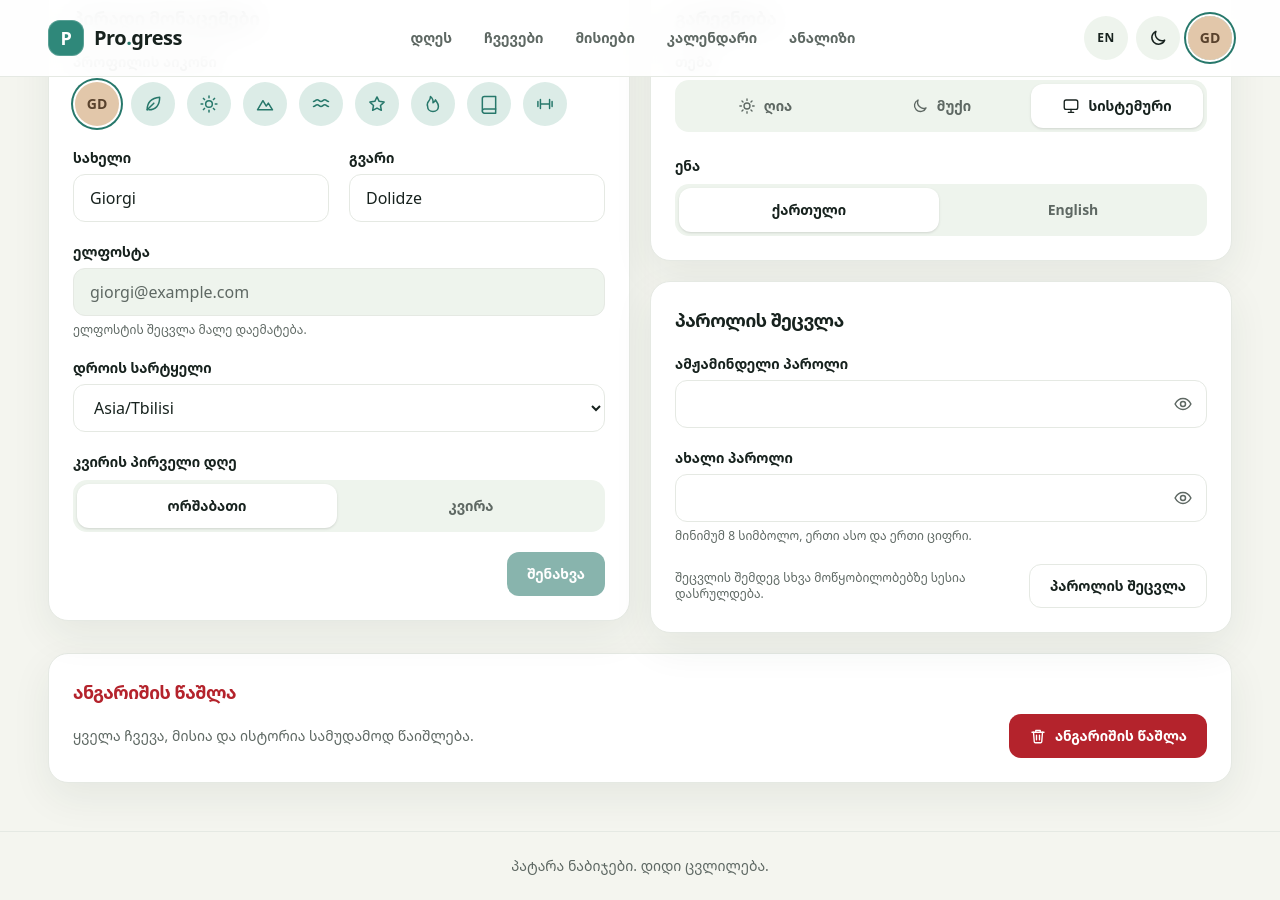
Test: profile (US-3, US-4) › deletes the account only after password confirmation
(page scrolled)
Expected: the heading "პირადი მონაცემები" is shown, 73,6 -> 260,30
Step 1. Click the button "ანგარიშის წაშლა" → (1108, 736), box 1009,714 -> 1207,758
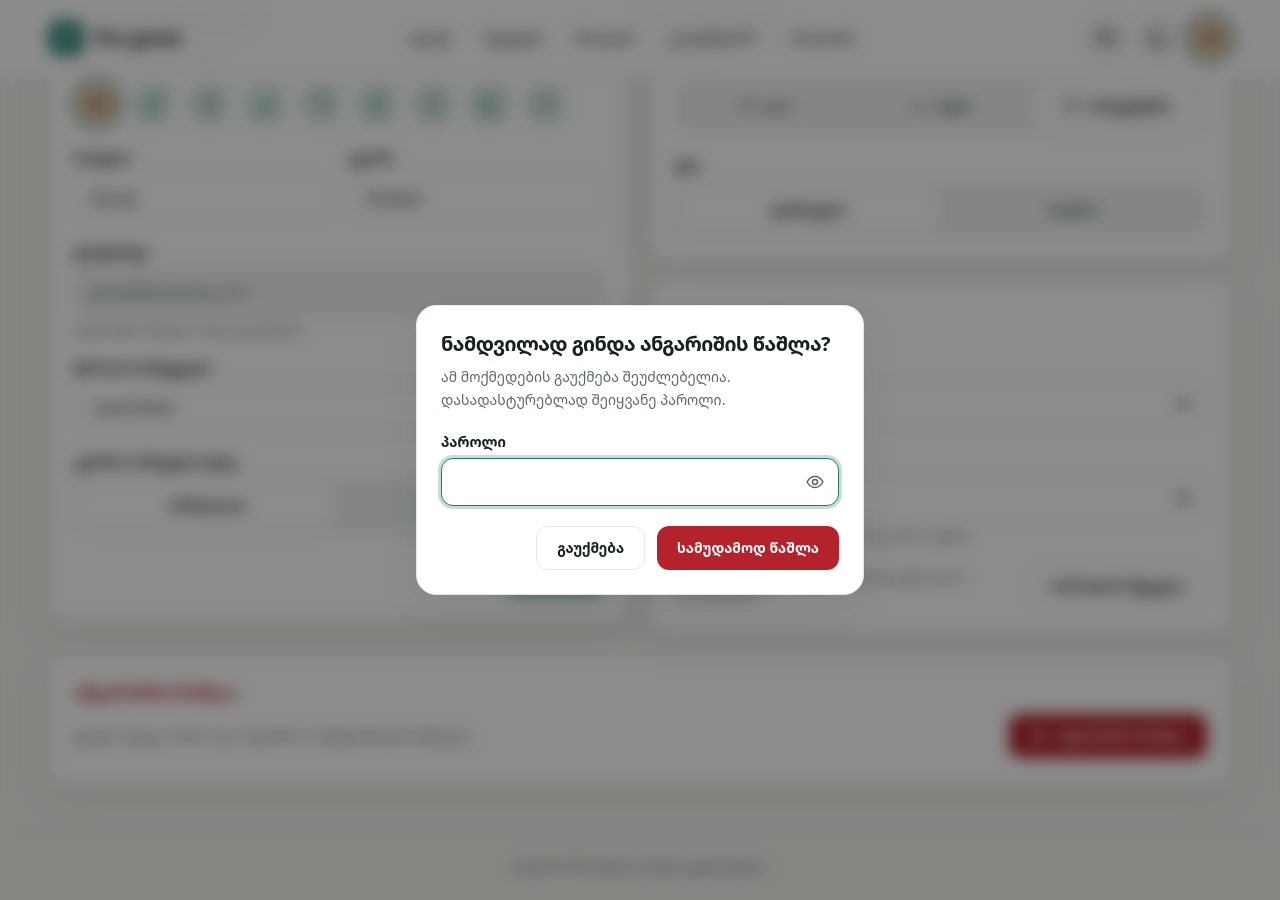
Step 2. Type "wrong-pass1" into the password field labelled "პაროლი" → (640, 482), box 441,458 -> 839,506
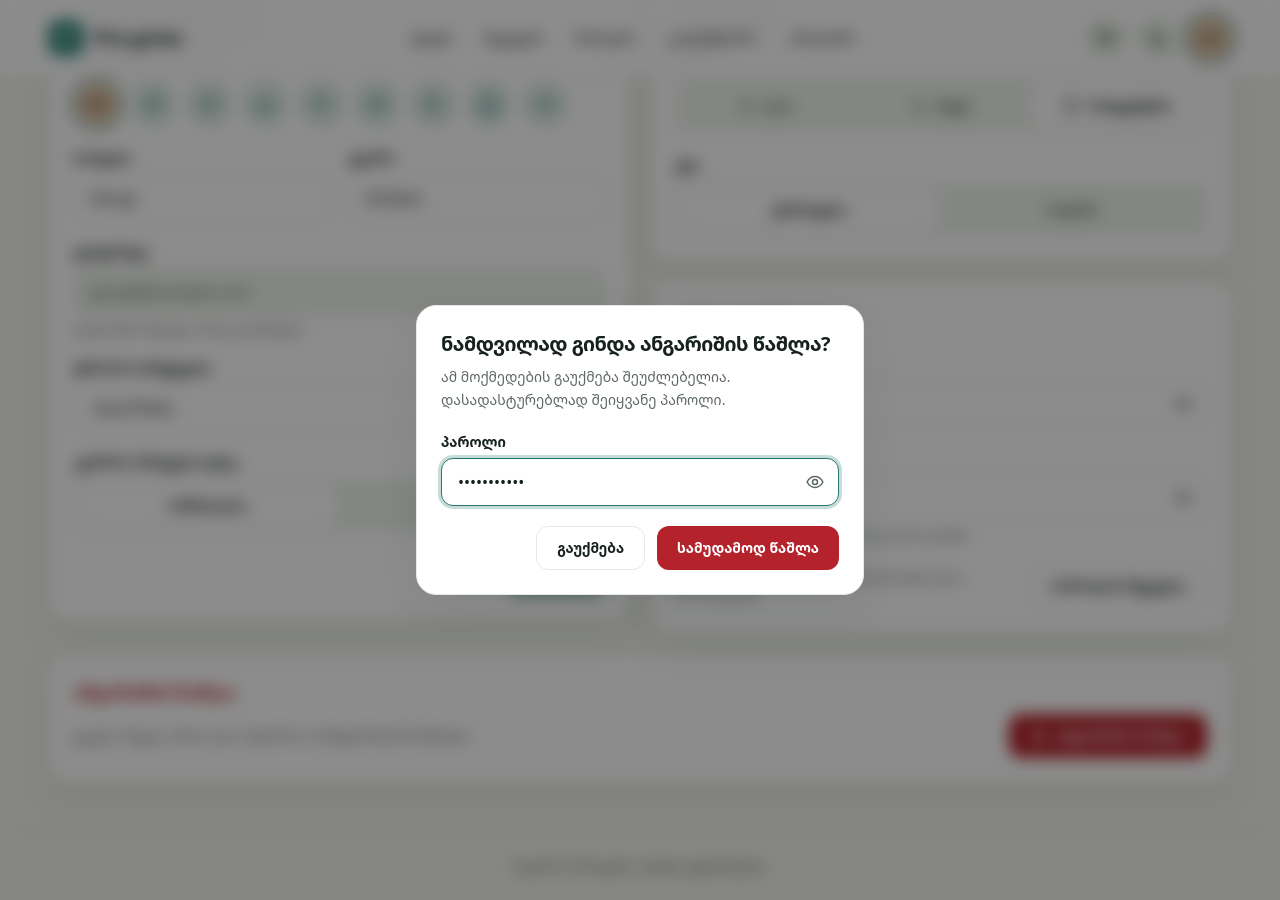
Step 3. Click the button "სამუდამოდ წაშლა" → (748, 548), box 657,526 -> 839,570
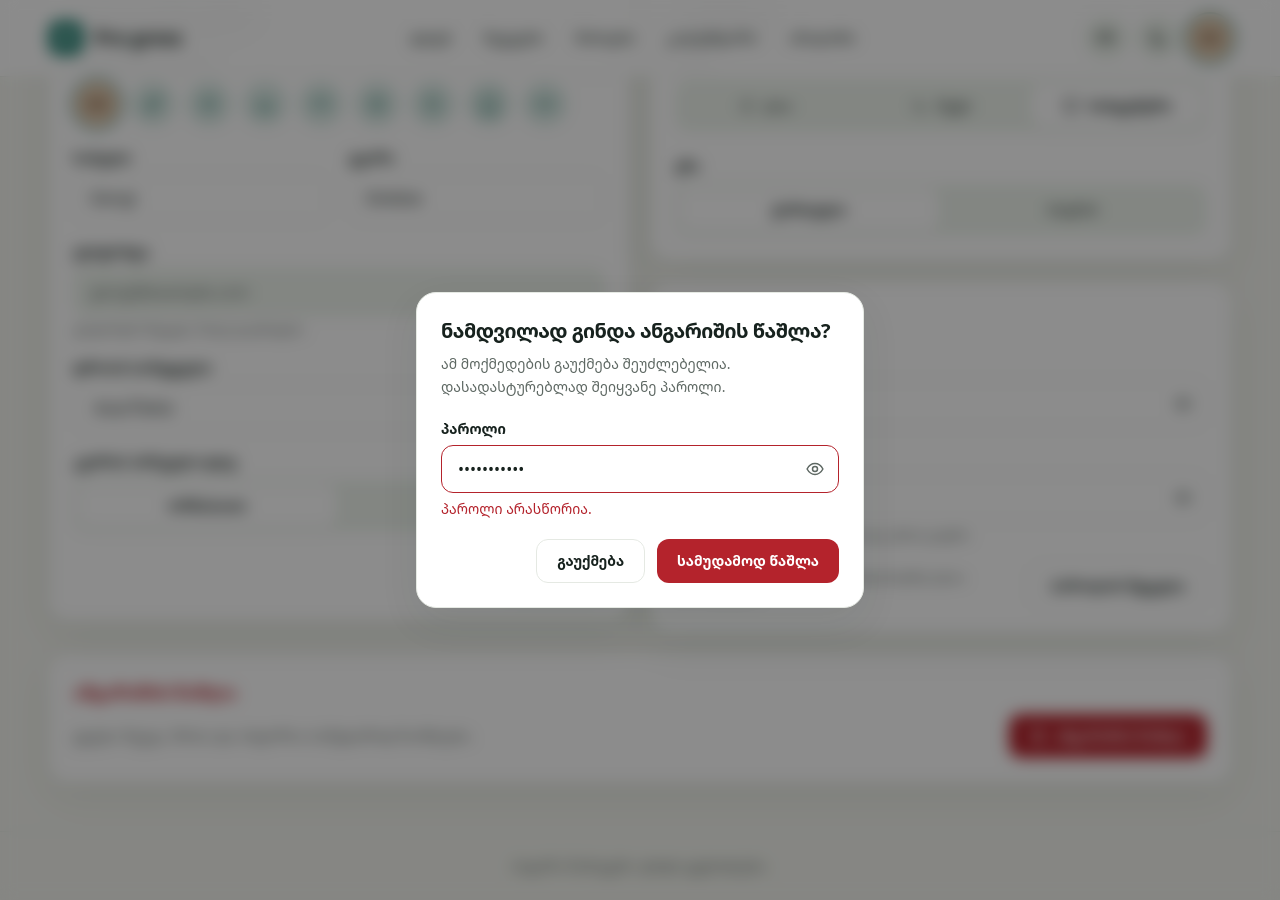
Result: the text "პაროლი არასწორია." is shown at 441,499 -> 592,518
Step 4. Type "secret123" into the password field labelled "პაროლი" → (640, 469), box 441,445 -> 839,493
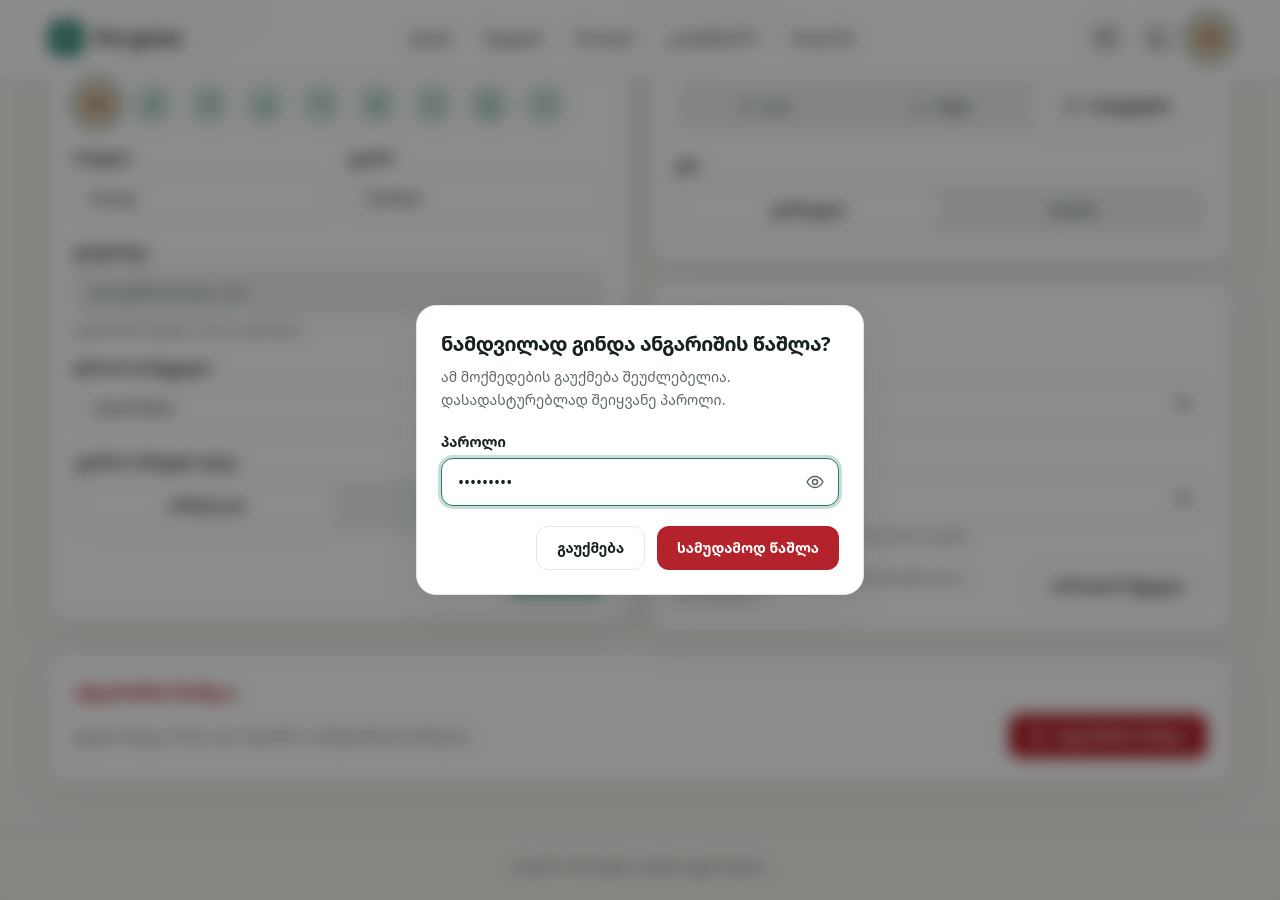
Step 5. Click the button "სამუდამოდ წაშლა" → (748, 548), box 657,526 -> 839,570
(page scrolled)
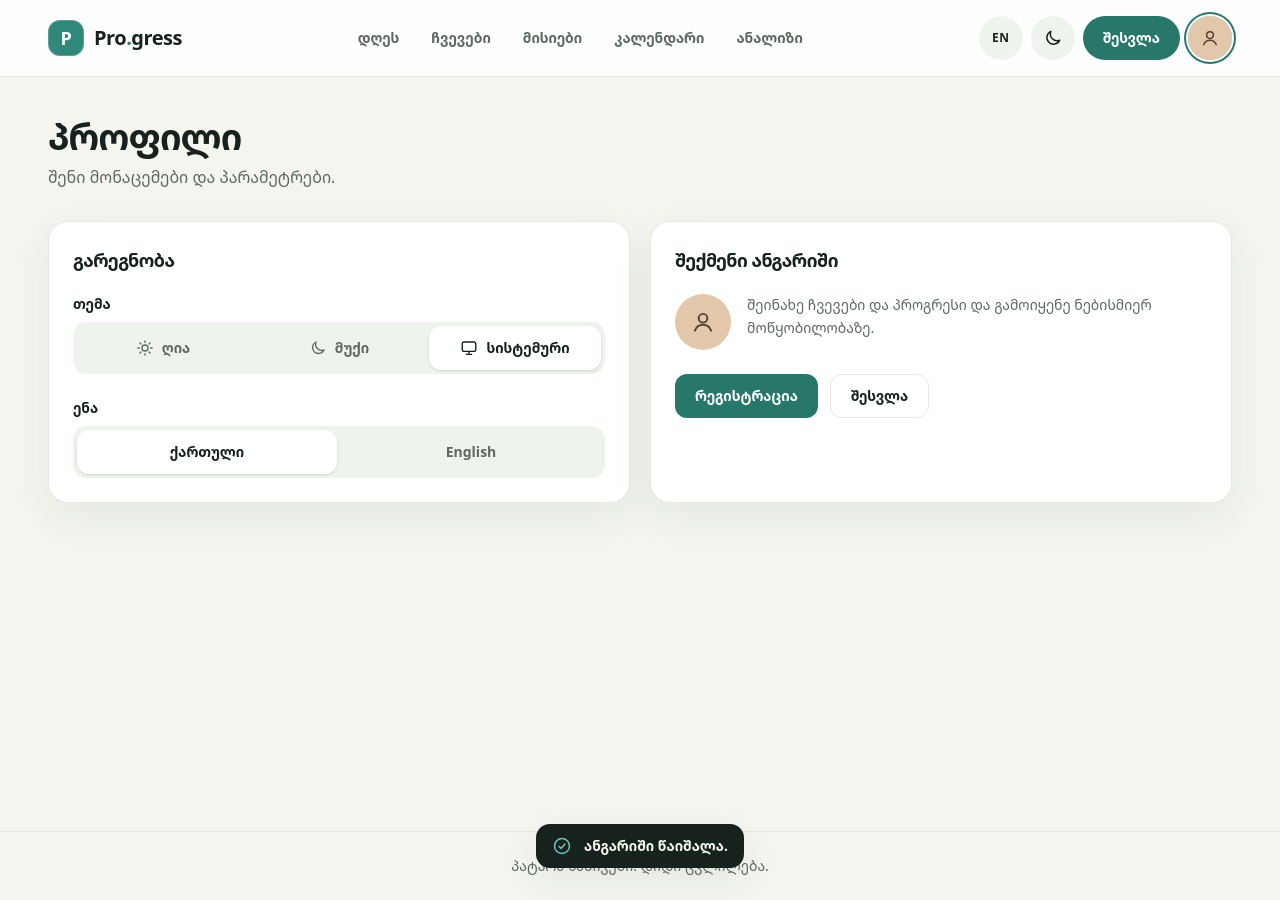
Result: the text "ანგარიში წაიშალა." is shown at 536,824 -> 744,868
